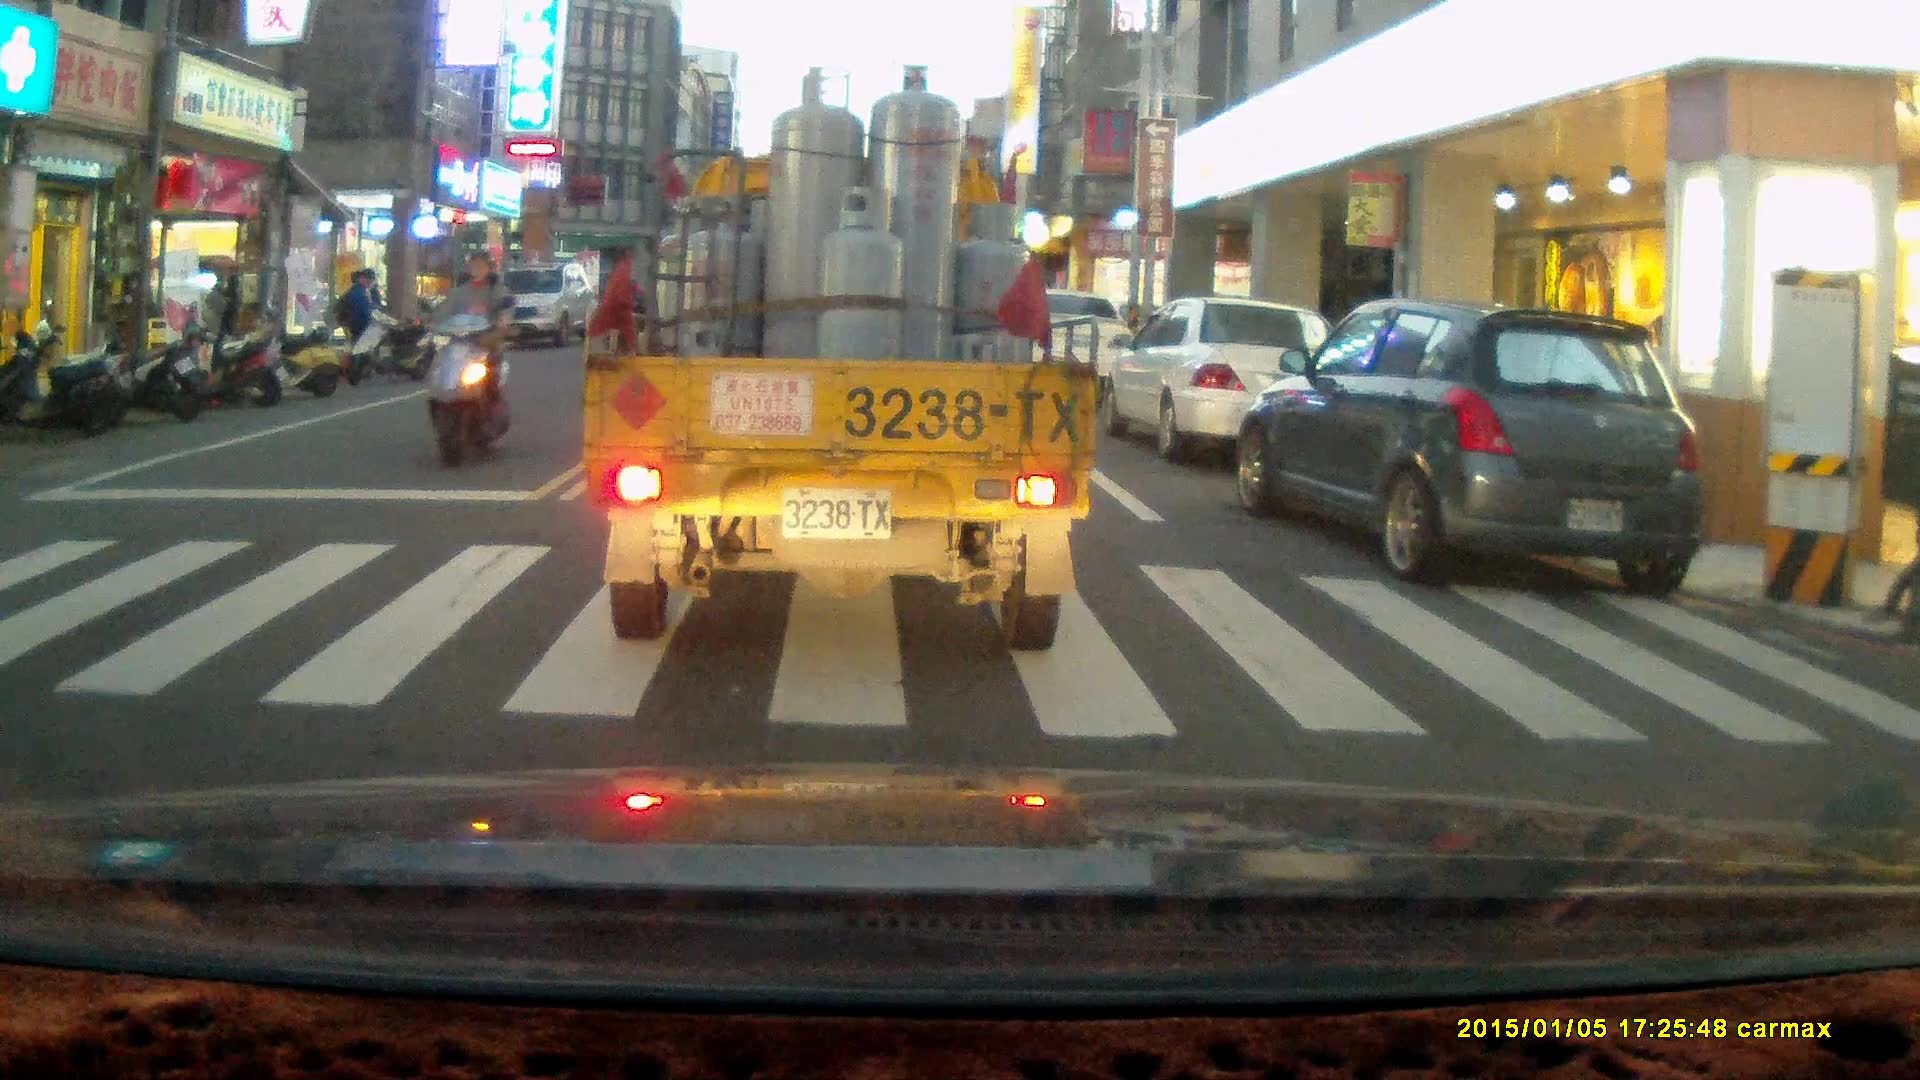pedestrian: (338, 268, 376, 378), (202, 270, 234, 373)
rider: (413, 248, 518, 470)
vehicle: (582, 64, 1105, 652), (1232, 294, 1709, 593), (1105, 295, 1367, 468), (989, 295, 1150, 427), (475, 267, 591, 358)
